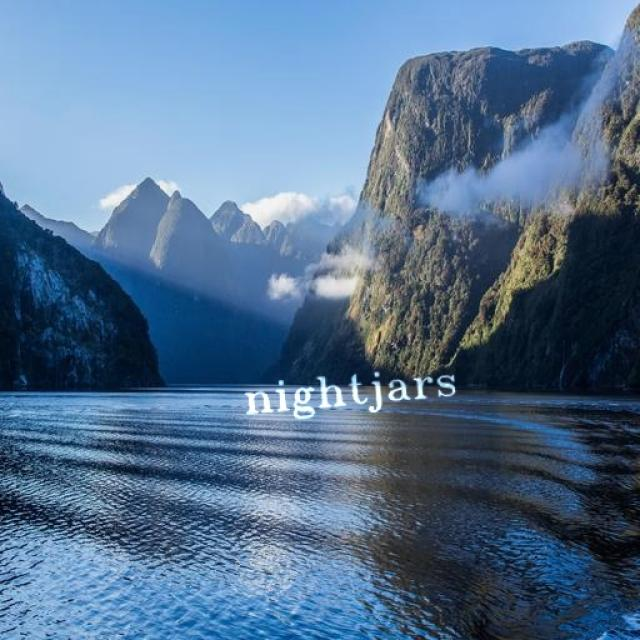watermark: (233, 362, 458, 420)
